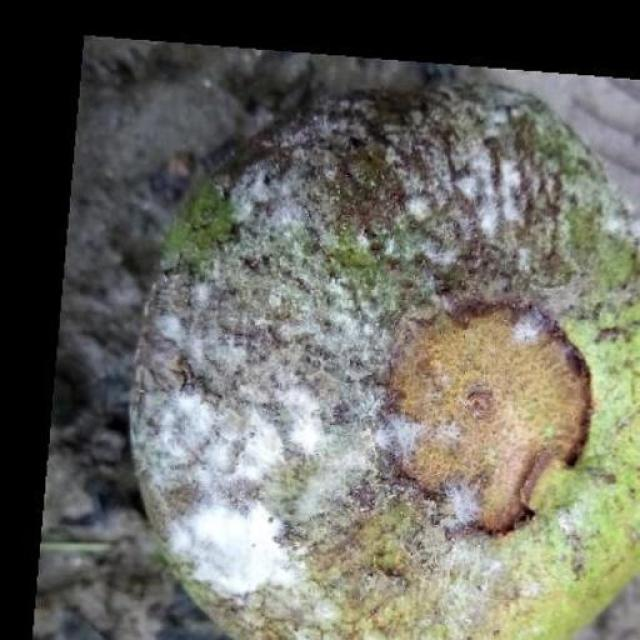Phytopthora: (131, 81, 640, 640)
